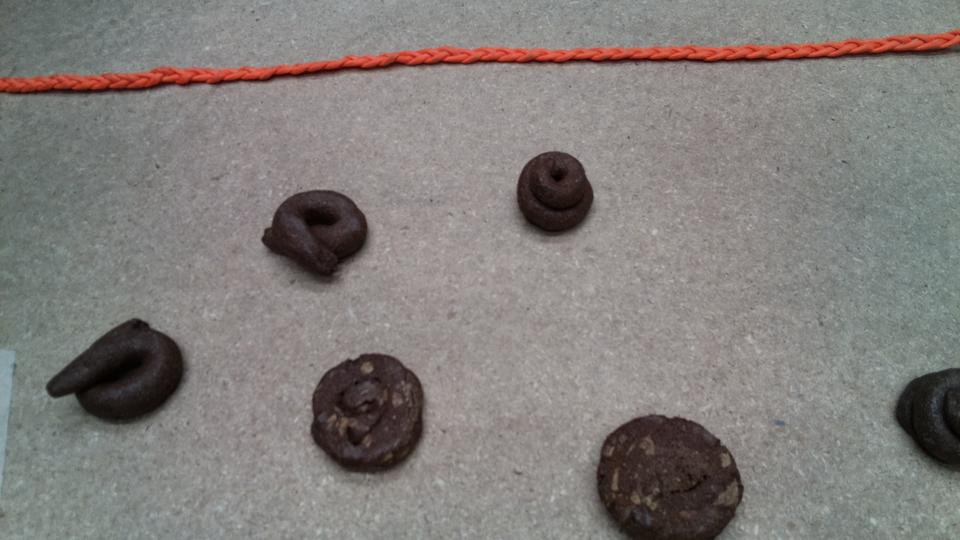poop: (587, 408, 746, 540), (302, 346, 435, 476), (43, 311, 190, 426), (258, 181, 372, 289), (886, 365, 960, 487), (508, 149, 601, 239)
rope: (292, 41, 909, 85), (2, 64, 313, 102), (791, 35, 959, 66)
